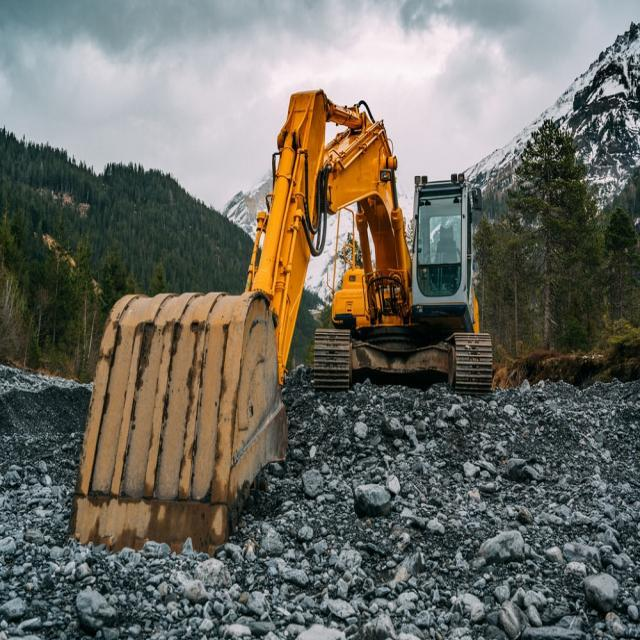C_E: (67, 88, 496, 560)
